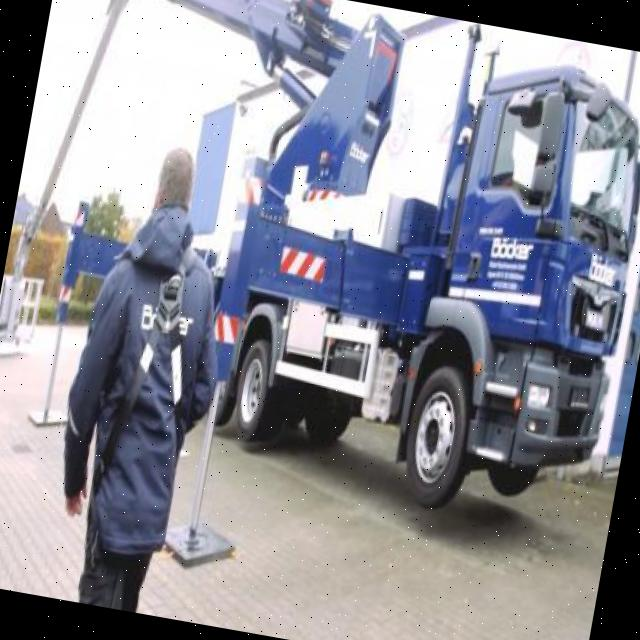Mobile Crane: (0, 0, 640, 529)
